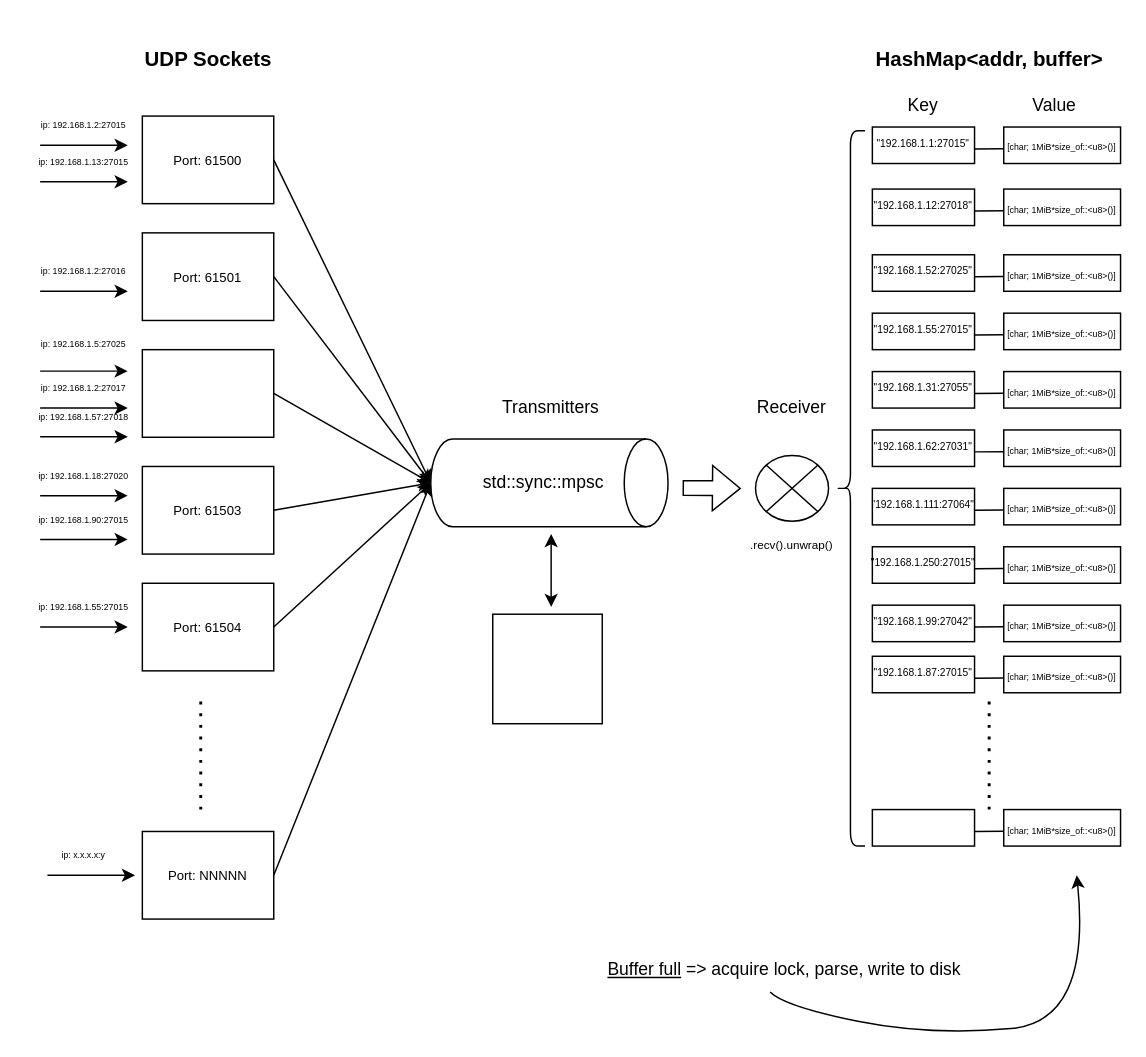
This 1146x1057 diagram has some shape labels left out. The centre of each missing label's shape, as x and y in pixels:
"x.x.x.x:y": point (923, 827)
asynchronous, 'infinitely' buffered FIFO: point (546, 668)
Port: 61502: point (207, 392)
